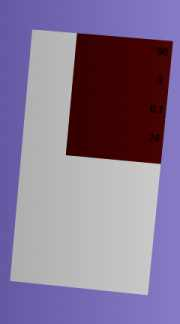carbs: (146, 128, 162, 147)
energy: (154, 41, 170, 61)
fat: (147, 99, 166, 119)
protein: (154, 71, 165, 90)
